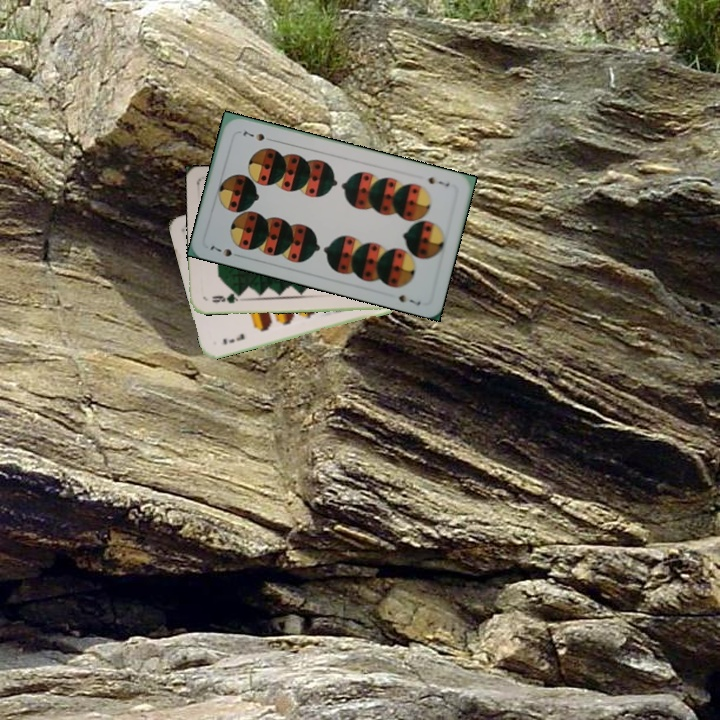E7: (218, 329, 247, 347)
G9: (208, 289, 244, 305)
S7: (206, 241, 244, 259), (423, 173, 452, 189)
